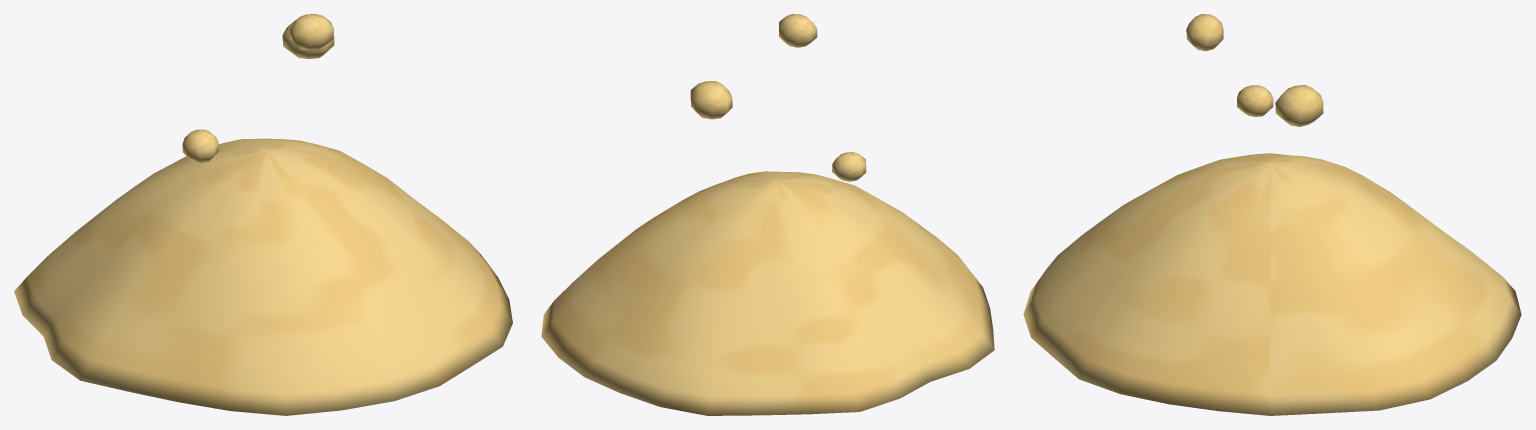
The model's file is SD_FX03_BurrowEmerge.fbx.
The picture shows the model from 3 angles, left to right: view 1: azimuth 30°, elevation 25°; view 2: azimuth 150°, elevation 25°; view 3: azimuth 270°, elevation 25°; orthographic projection. The views are drawn at different scales.
Visible parts, largest first — view 1: Mound, Spray_03, Spray_02, Spray_01; view 2: Mound, Spray_01, Spray_03, Spray_02; view 3: Mound, Spray_01, Spray_03, Spray_02.
Boxes of the visible parts, box(x1,y1,x2,y2) form: Mound: box(14, 138, 512, 415); Spray_03: box(290, 14, 333, 50); Spray_02: box(182, 129, 218, 163); Spray_01: box(282, 19, 334, 58); Mound: box(541, 171, 994, 415); Spray_01: box(690, 81, 732, 119); Spray_03: box(779, 14, 817, 47); Spray_02: box(832, 152, 866, 181); Mound: box(1023, 153, 1521, 415); Spray_01: box(1275, 84, 1323, 126); Spray_03: box(1186, 14, 1223, 51); Spray_02: box(1237, 85, 1273, 116).
Size of the model in its own units: 1.63 by 1.17 by 1.7.
